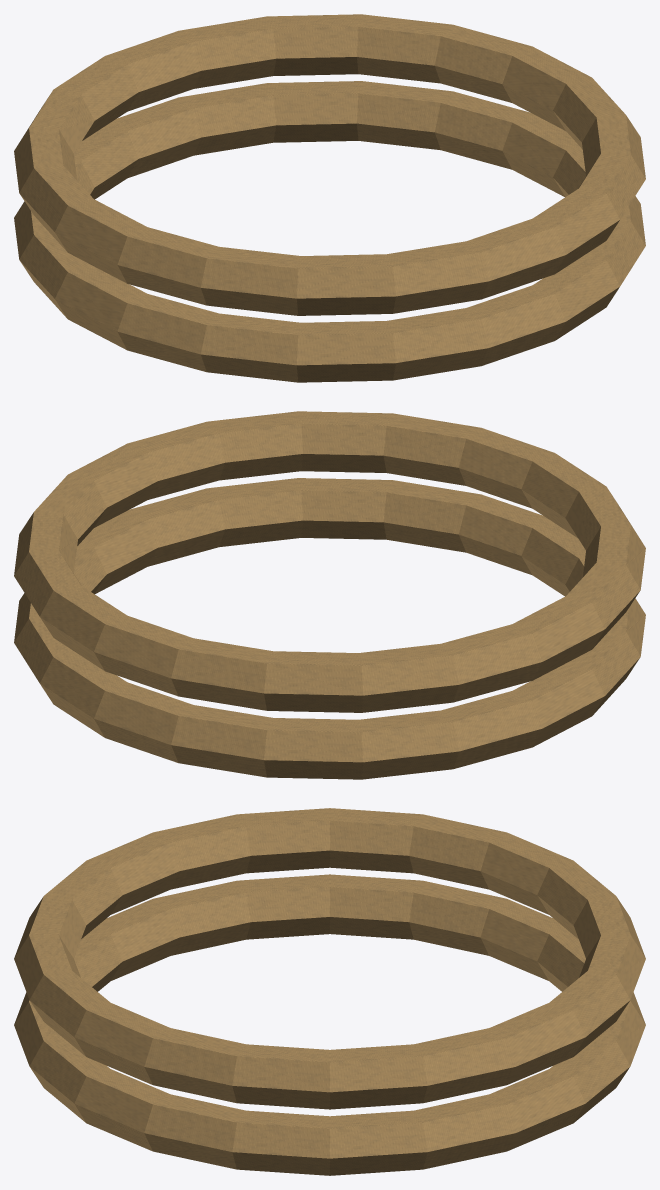
Rendered from pr-002_rope_coil__loose.obj.
3 renders of one model, top to bottom at view 1: azimuth 30°, elevation 25°; view 2: azimuth 150°, elevation 25°; view 3: azimuth 270°, elevation 25°, orthographic.
Visible parts, largest first — view 1: pr-002_rope_coil__loose; view 2: pr-002_rope_coil__loose; view 3: pr-002_rope_coil__loose.
Boxes of the visible parts, box(x1,y1,x2,y2) form: pr-002_rope_coil__loose: box(14, 14, 645, 382); pr-002_rope_coil__loose: box(14, 411, 645, 779); pr-002_rope_coil__loose: box(14, 808, 645, 1175).
Bounding box in the file's own units: 0.95 × 0.1879 × 0.95.
Materials: 1 (1 with a texture image).
